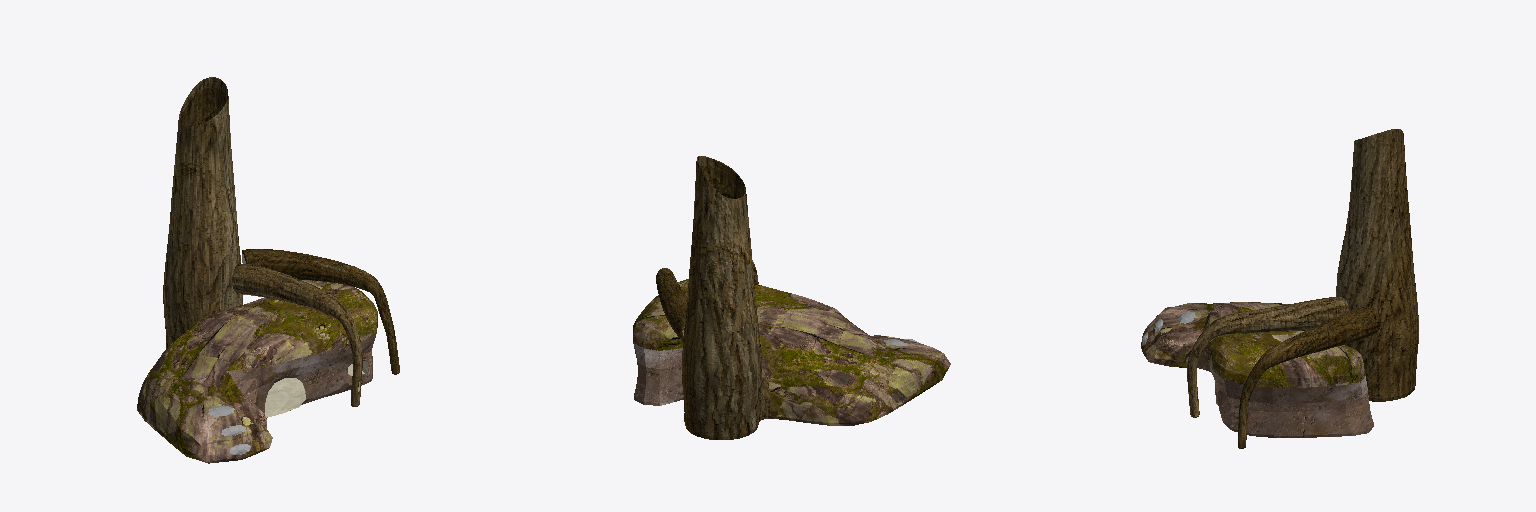
3 views of the same model, side by side, from view 1: azimuth 30°, elevation 25°; view 2: azimuth 150°, elevation 25°; view 3: azimuth 270°, elevation 25° (orthographic).
Visible parts, largest first — view 1: Casa_Cube.003; view 2: Casa_Cube.003; view 3: Casa_Cube.003.
Part boxes in pixels (left/top/right/bottom): Casa_Cube.003: left=137, top=77, right=399, bottom=463; Casa_Cube.003: left=633, top=156, right=950, bottom=439; Casa_Cube.003: left=1141, top=129, right=1418, bottom=448.
Size of the model in its own units: 109 by 113 by 106.
1 materials, 1 textured.